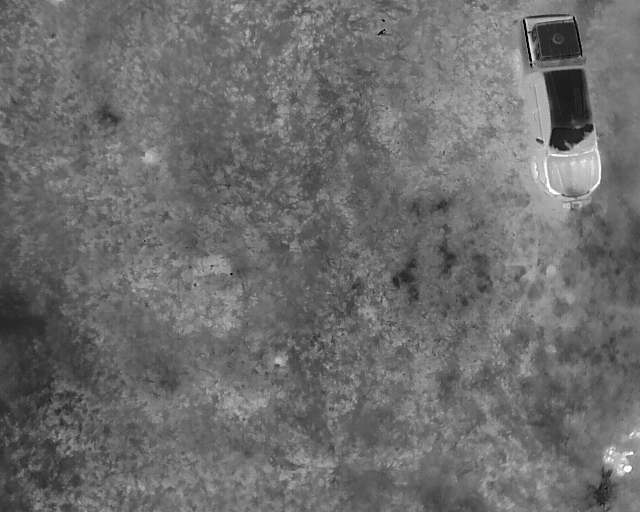car: (289, 163, 296, 171)
person: (341, 251, 344, 257), (340, 247, 342, 253), (290, 169, 292, 175), (341, 244, 343, 249)
